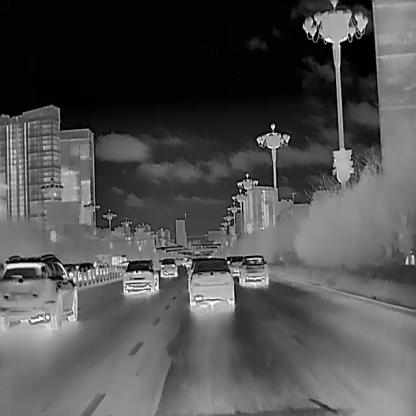car: (0, 253, 77, 330), (186, 259, 234, 305), (123, 260, 158, 295), (238, 254, 271, 288), (159, 257, 178, 277), (76, 263, 96, 280), (228, 254, 242, 275)
